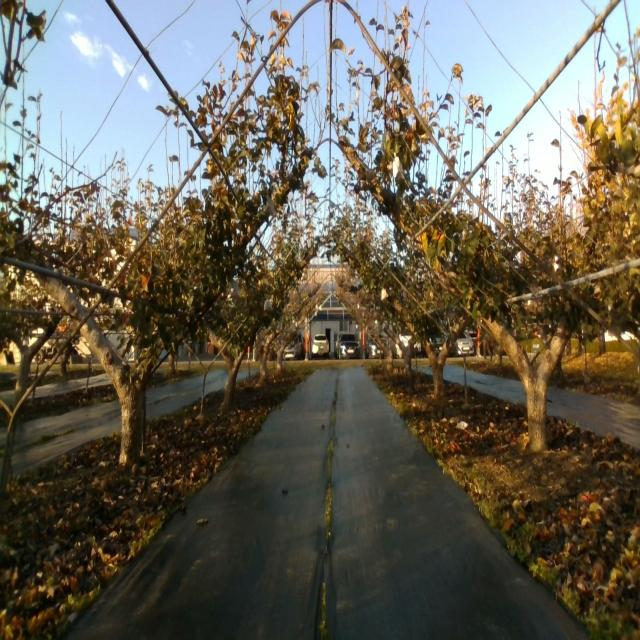pearbags: (392, 153, 404, 179), (227, 280, 242, 298)
